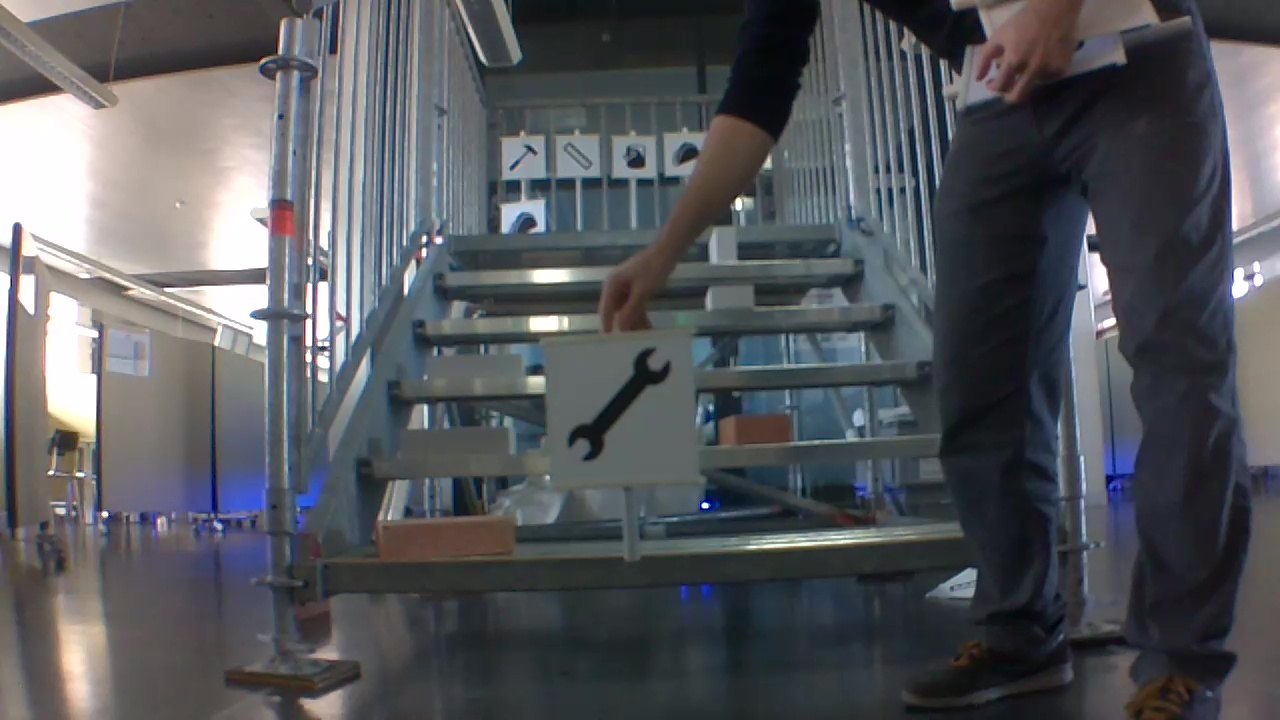brick: (382, 516, 518, 559), (400, 424, 515, 460), (427, 351, 526, 381), (716, 411, 794, 443), (706, 284, 753, 311), (708, 224, 738, 261)
bucket: (622, 143, 652, 172)
edge: (314, 529, 963, 598)
hammer: (507, 143, 539, 170)
ruler: (561, 138, 593, 172)
taco: (508, 208, 541, 234), (671, 140, 700, 168)
wrench: (565, 342, 670, 467)
